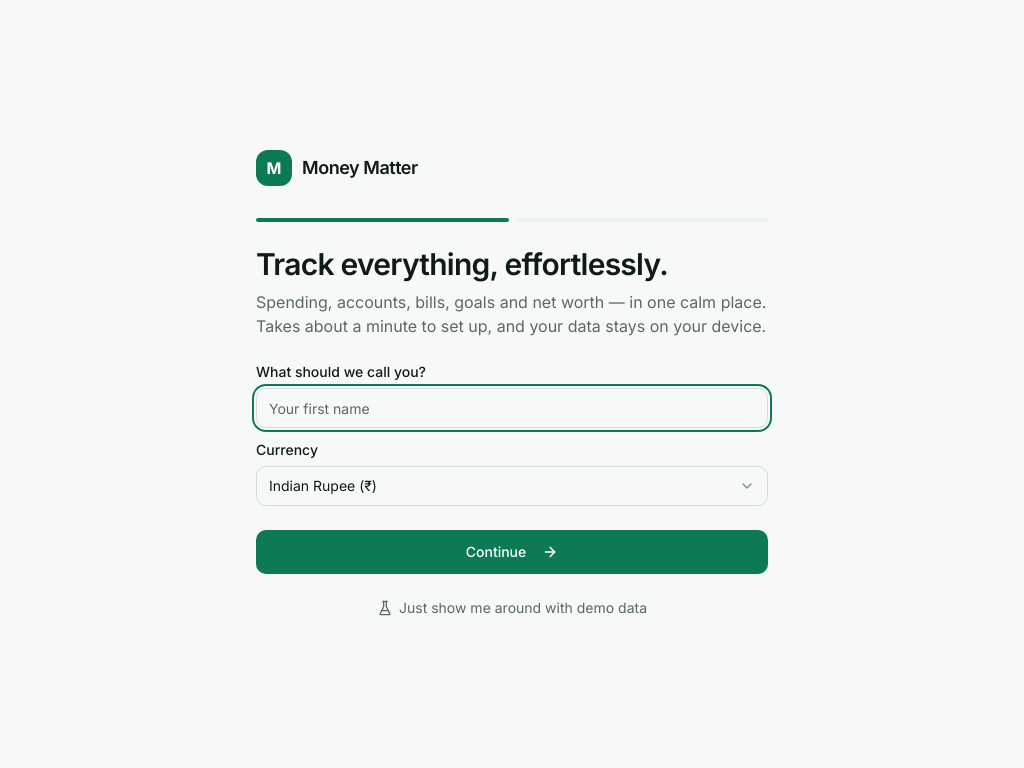
Test: first run › onboards a new user and lands on Home with their accounts
In the field labelled "What should we call you?": {"x": 512, "y": 408} [256, 388, 768, 428], type "Priya"
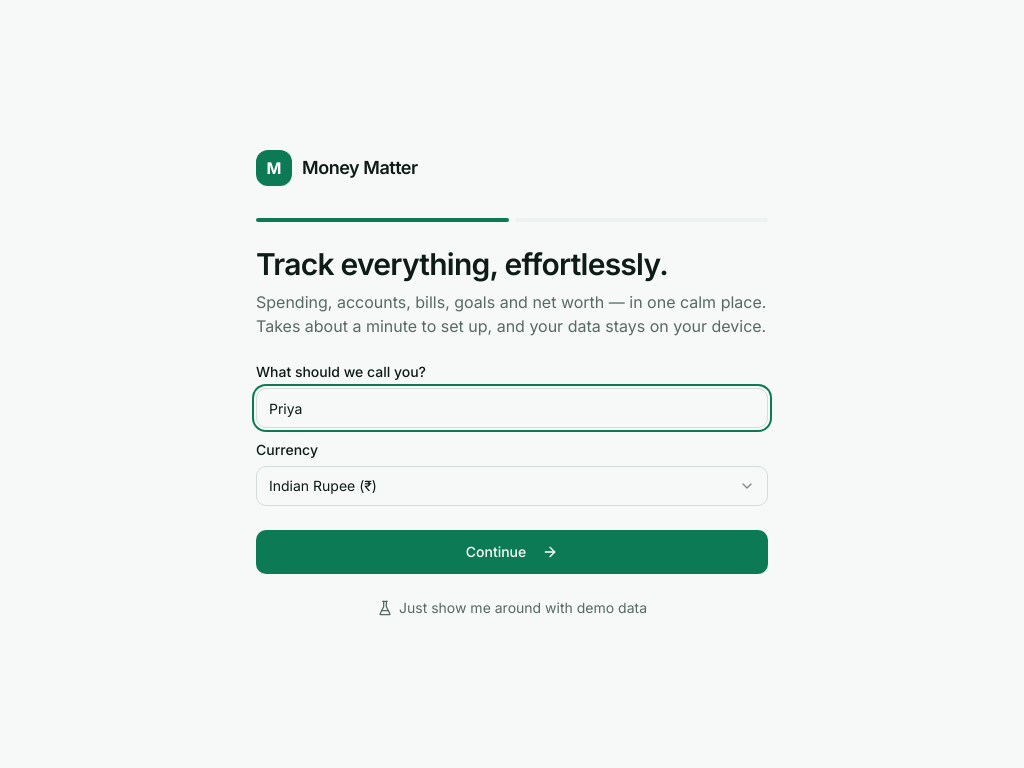
Click the button "Continue": {"x": 512, "y": 552} [256, 530, 768, 574]
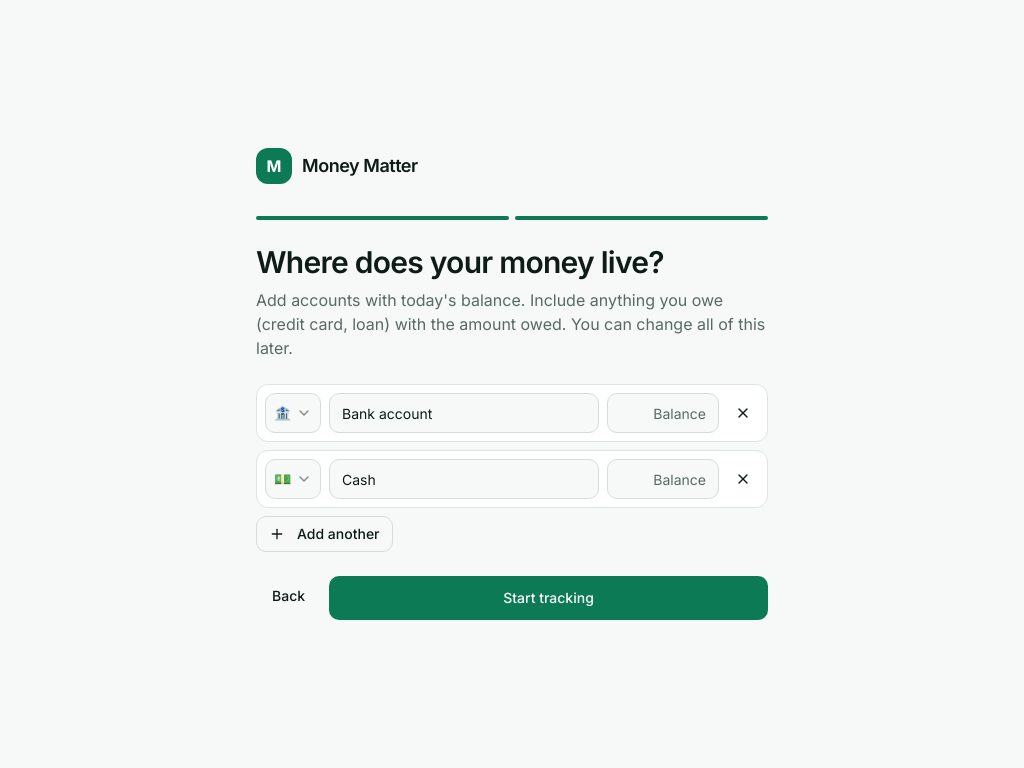
Replace the text in the 1st field named "Account name" with "Salary account": {"x": 464, "y": 413} [329, 393, 599, 433]
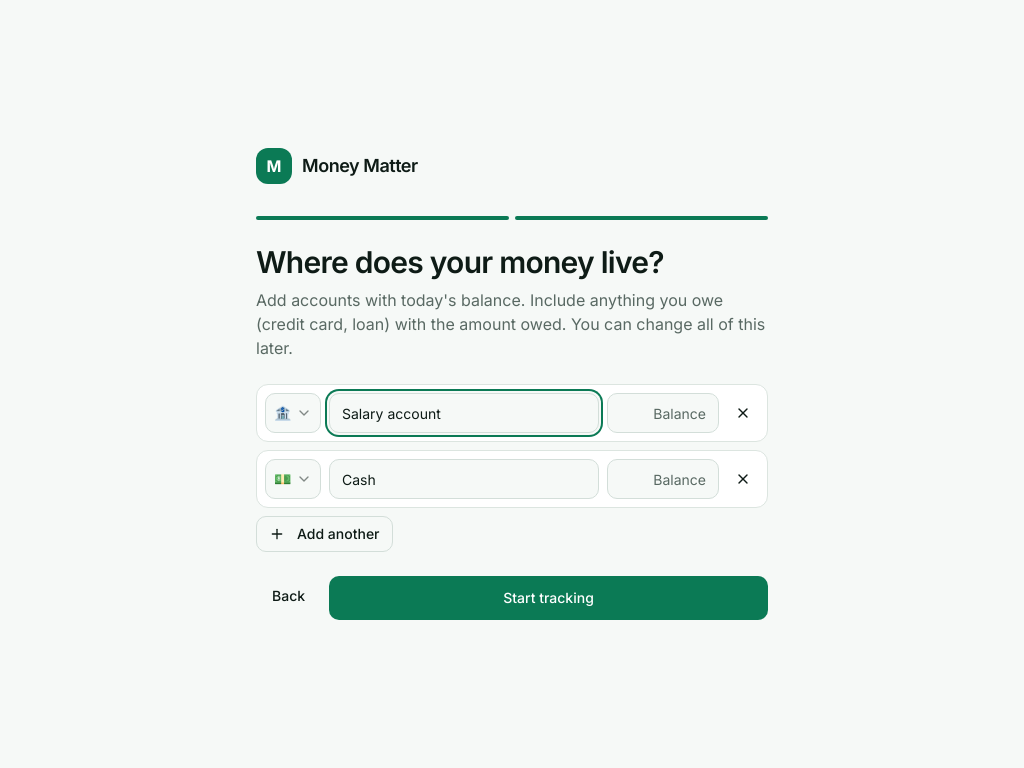
In the 1st field labelled "Balance": {"x": 663, "y": 413} [607, 393, 719, 433], type "50000"
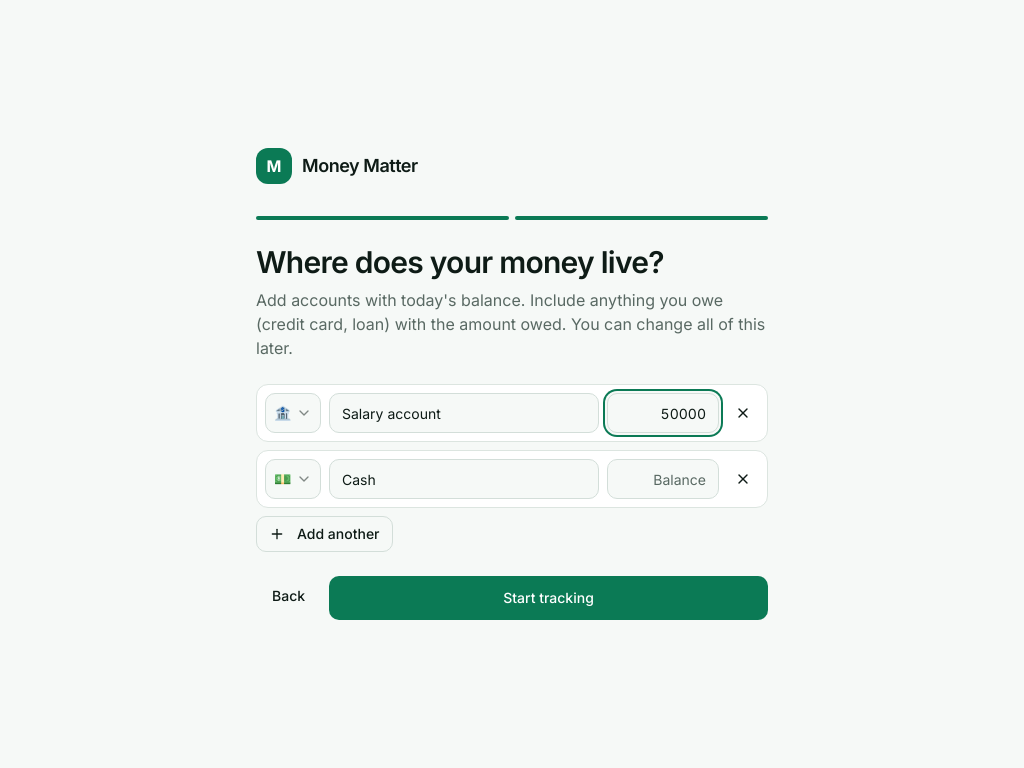
Click the button "Start tracking": {"x": 549, "y": 598} [329, 576, 768, 620]
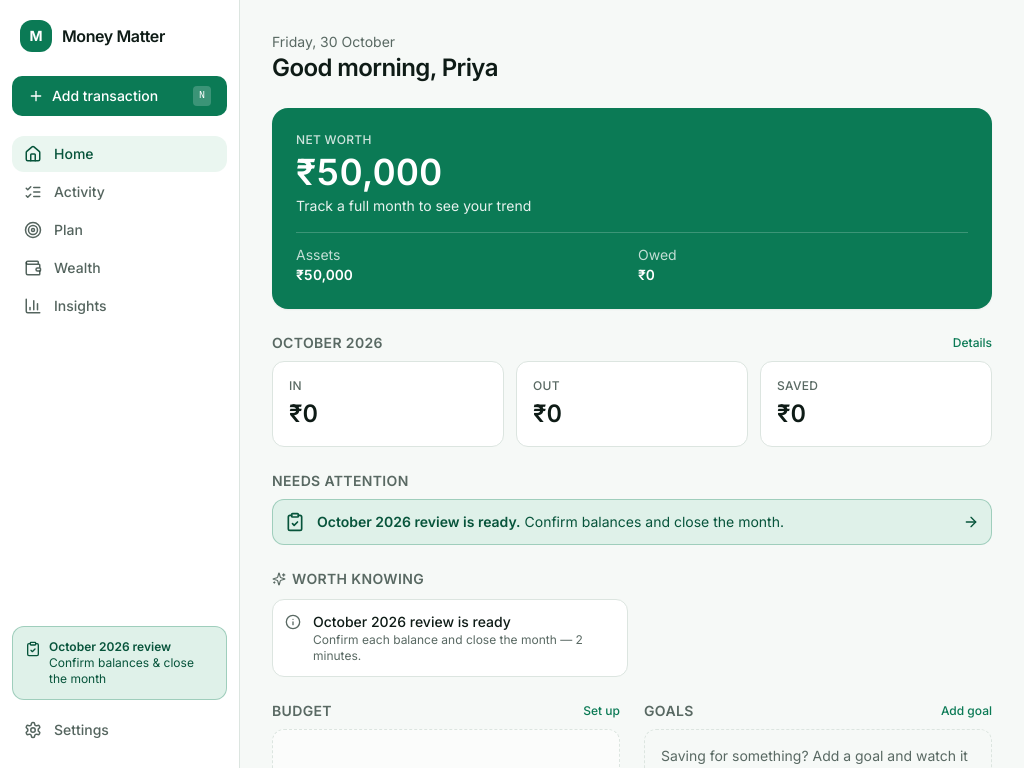
Expected: the heading "Good morning, Priya" is shown, [272, 53, 498, 82]
